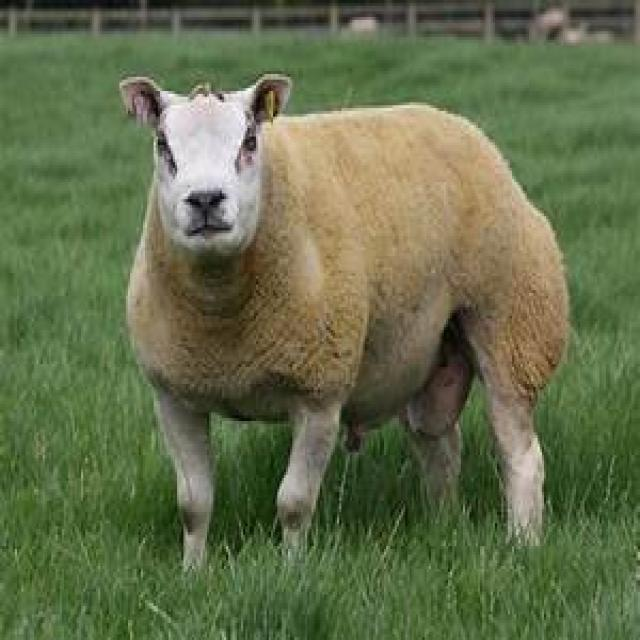sheep: (117, 68, 572, 578)
